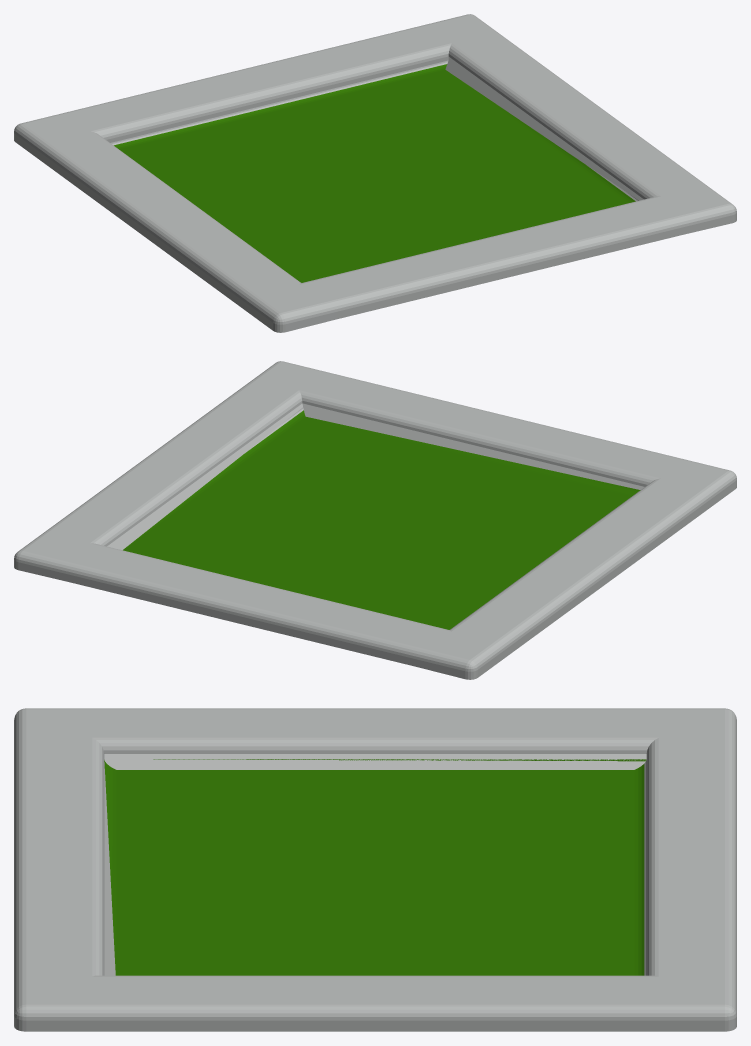
Rendered from Box_grass.fbx.
3 renders of one model, top to bottom at view 1: azimuth 30°, elevation 25°; view 2: azimuth 150°, elevation 25°; view 3: azimuth 270°, elevation 25°, orthographic. The views are drawn at different scales.
Parts seen in each view (by area): view 1: Plan.007; view 2: Plan.007; view 3: Plan.007.
Boxes of the visible parts, x1,y1,x2,y2 form: Plan.007: (14,14,736,332); Plan.007: (14,361,736,679); Plan.007: (14,708,736,1031).
Size of the model in its own units: 800 by 26.78 by 800.
